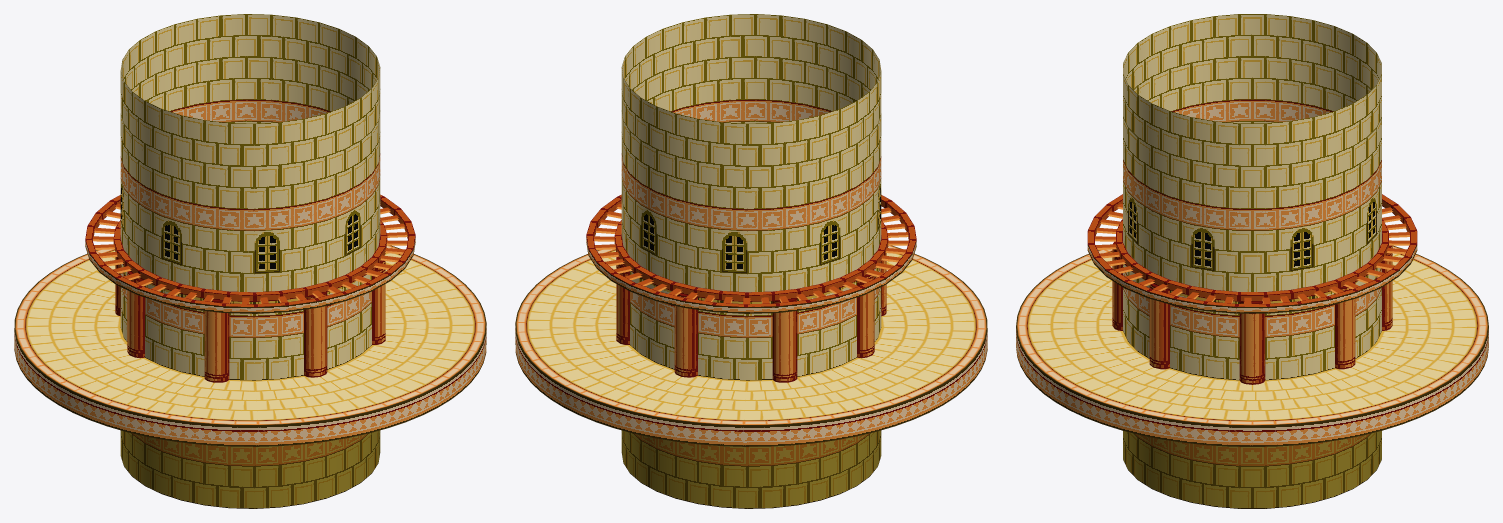
The model's file is Butter Building.dae.
3 renders of one model, left to right at view 1: azimuth 30°, elevation 25°; view 2: azimuth 150°, elevation 25°; view 3: azimuth 270°, elevation 25°, orthographic.
Visible parts, largest first — view 1: Wall, Floor, Star, DarkWall, Rim, Columns, LedgeSide, DarkStar, Plat, Window, Ledge; view 2: Wall, Floor, Star, DarkWall, Rim, Columns, LedgeSide, DarkStar, Plat, Window, Ledge; view 3: Wall, Floor, Star, DarkWall, Rim, Columns, LedgeSide, DarkStar, Plat, Window, Ledge.
Part boxes in pixels (left/top/right/bottom): Wall: left=120, top=14, right=380, bottom=380; Floor: left=14, top=245, right=486, bottom=425; Star: left=120, top=99, right=380, bottom=337; DarkWall: left=120, top=430, right=380, bottom=508; Rim: left=14, top=323, right=486, bottom=446; Columns: left=115, top=257, right=385, bottom=382; LedgeSide: left=85, top=194, right=415, bottom=307; DarkStar: left=132, top=433, right=367, bottom=466; Plat: left=93, top=202, right=407, bottom=303; Window: left=120, top=182, right=360, bottom=273; Ledge: left=85, top=237, right=415, bottom=313; Wall: left=621, top=14, right=881, bottom=380; Floor: left=515, top=245, right=987, bottom=425; Star: left=621, top=99, right=881, bottom=337; DarkWall: left=621, top=430, right=881, bottom=508; Rim: left=515, top=323, right=987, bottom=446; Columns: left=616, top=253, right=886, bottom=382; LedgeSide: left=586, top=194, right=916, bottom=307; DarkStar: left=634, top=433, right=869, bottom=466; Plat: left=593, top=203, right=908, bottom=304; Window: left=641, top=182, right=881, bottom=273; Ledge: left=586, top=237, right=916, bottom=313; Wall: left=1123, top=14, right=1381, bottom=380; Floor: left=1016, top=245, right=1488, bottom=425; Star: left=1123, top=99, right=1381, bottom=337; DarkWall: left=1123, top=431, right=1381, bottom=508; Rim: left=1016, top=326, right=1488, bottom=446; Columns: left=1112, top=241, right=1392, bottom=384; LedgeSide: left=1087, top=194, right=1417, bottom=306; DarkStar: left=1134, top=433, right=1370, bottom=465; Plat: left=1095, top=202, right=1409, bottom=303; Window: left=1128, top=196, right=1376, bottom=270; Ledge: left=1087, top=244, right=1417, bottom=313.
Size of the model in its own units: 2000 by 1800 by 2000.
10 materials, 10 textured.
